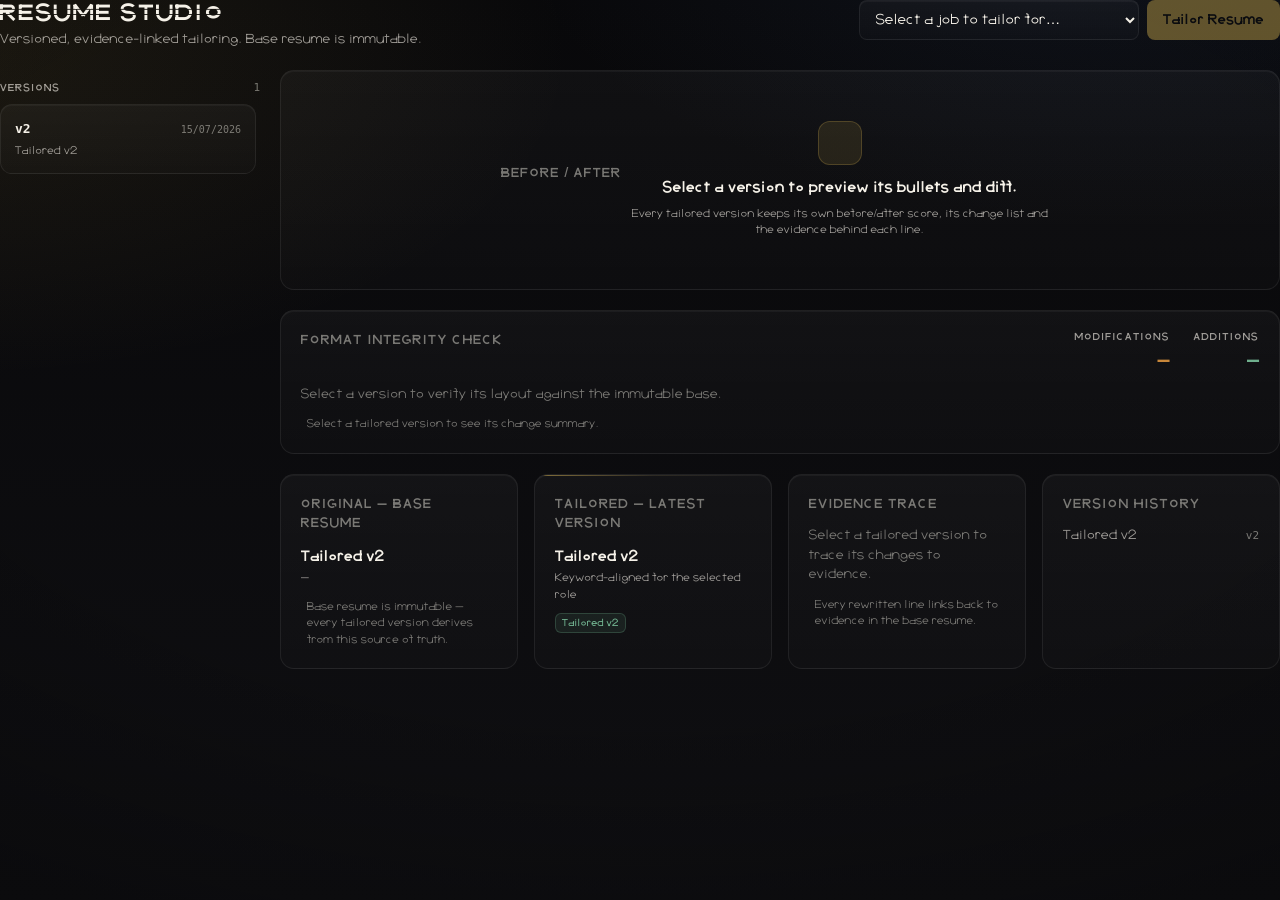
Test: Resume Studio — ATS grid degraded-scoring UI (GMV4-ats-001/002) › withholds the OVERALL score too when the semantic half was not measured
Click the button with test id "resume-version-card" at (128, 139), box [0,104,256,174]
(page scrolled)
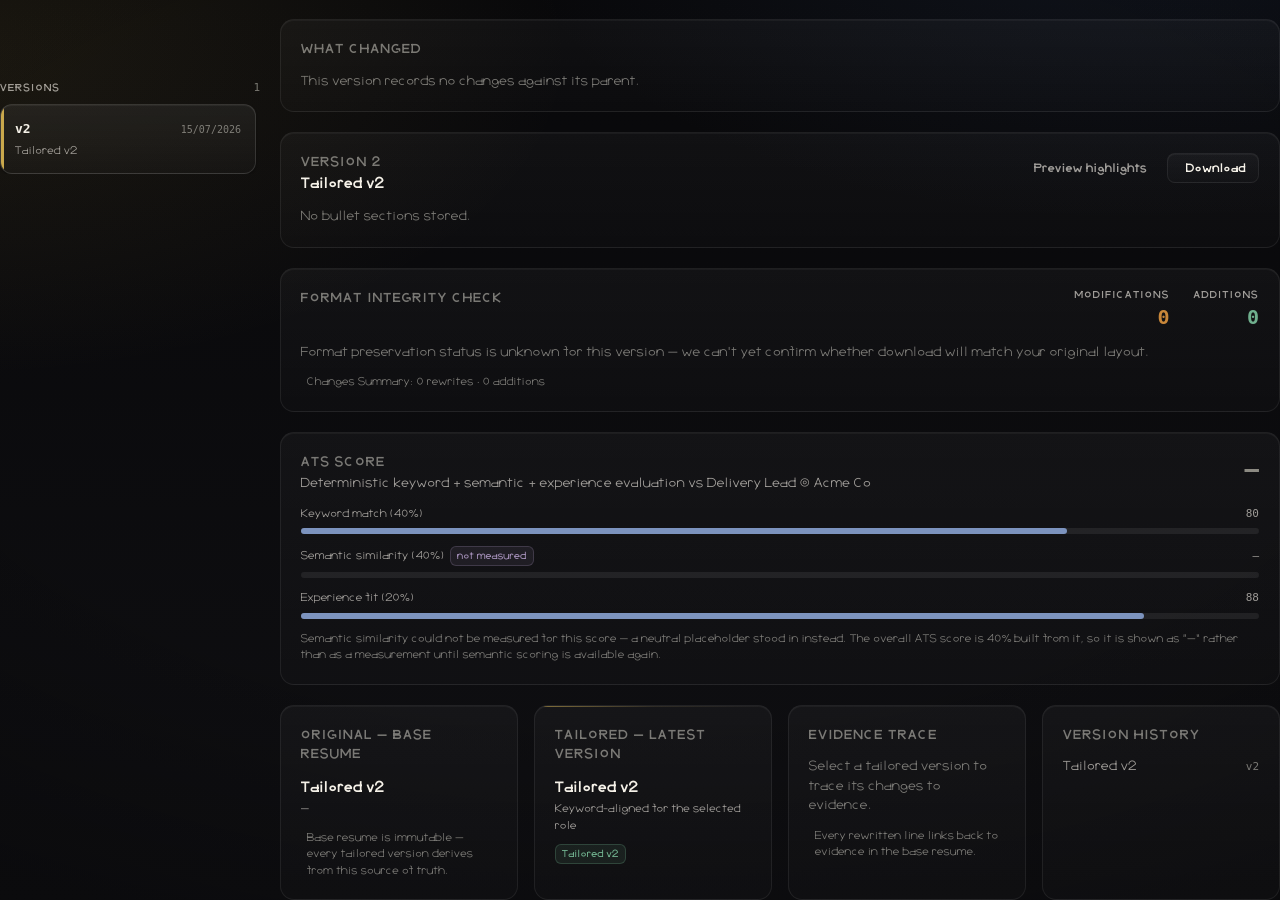
Check: the text with test id "ats-overall" reads "—", box [1244,455,1259,483]
